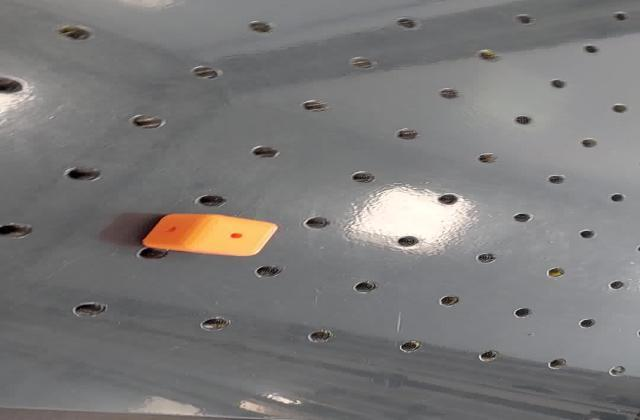cube: (138, 212, 283, 258)
